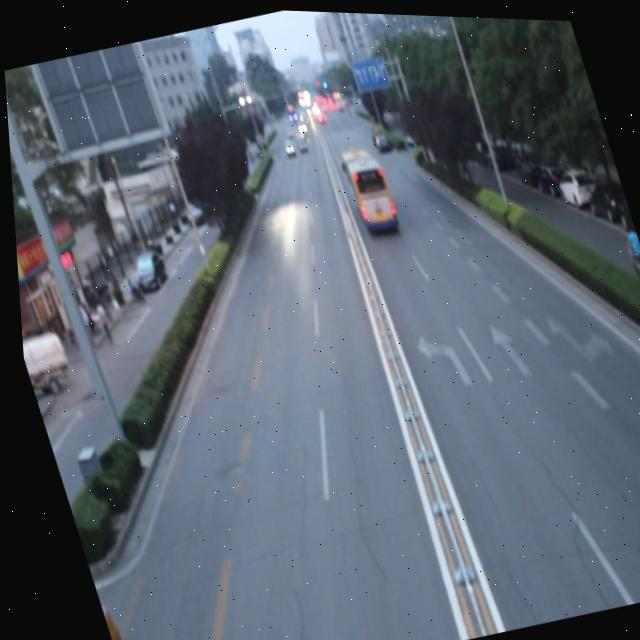van: (335, 139, 395, 228)
